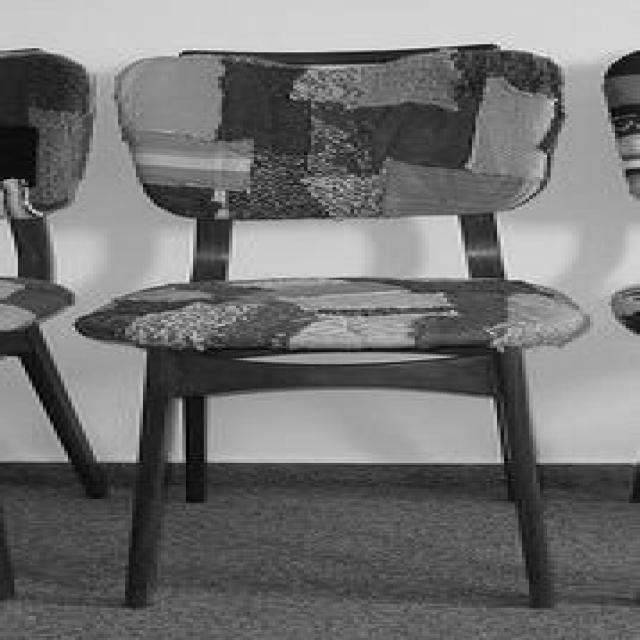chair: (78, 40, 598, 608), (0, 50, 108, 504)
